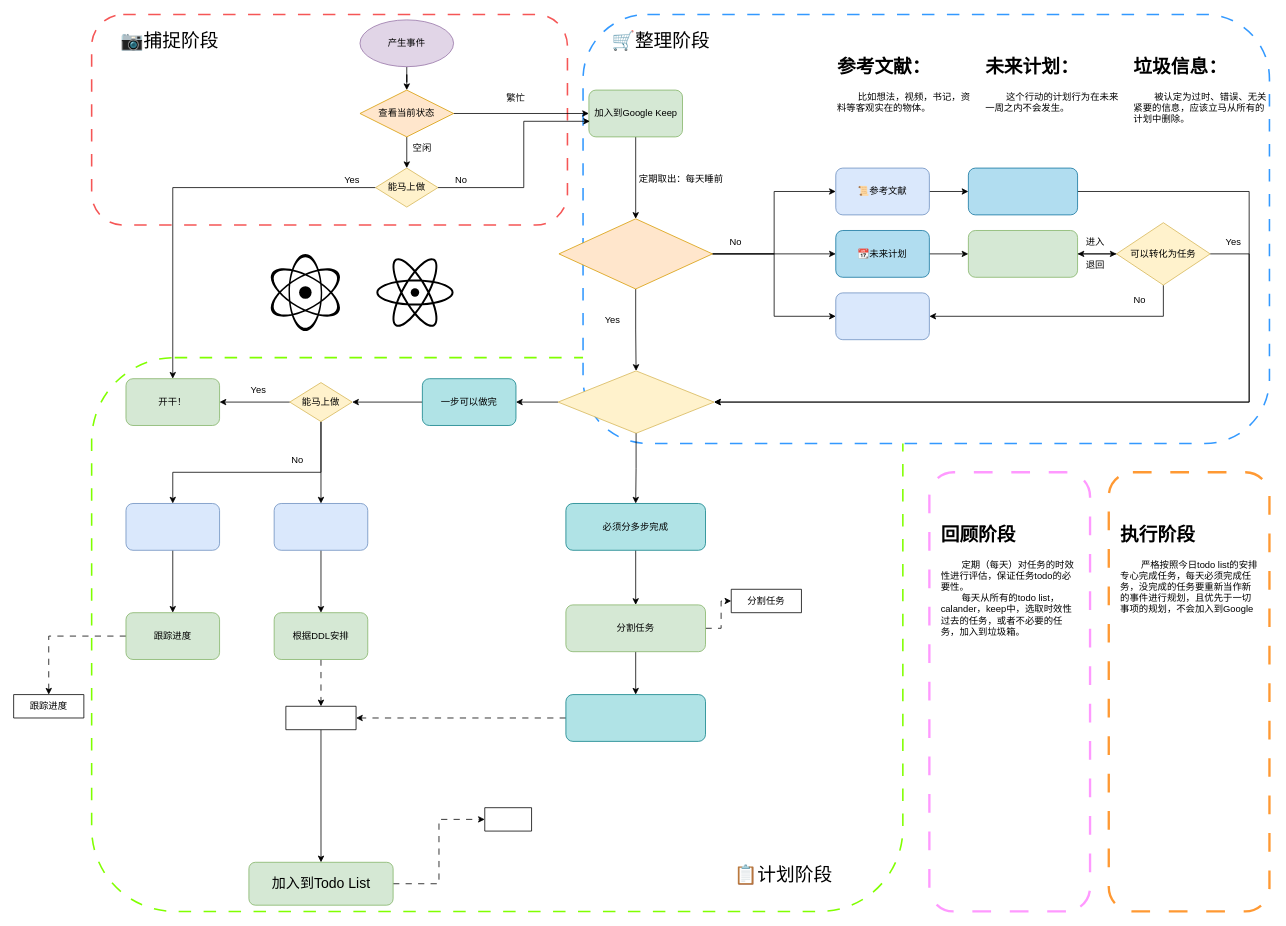
This 1286x926 diagram has some shape labels left out. Each missing label, with the box of its shape:
❌ 垃圾信息: (835, 292, 929, 340)
加入到"未来" Todo List，定期清理（每周）: (968, 230, 1078, 277)
加入到日历: (273, 503, 368, 550)
安排日期: (285, 706, 356, 730)
将计划添加到日历: (565, 694, 706, 741)
并明确处理任务具体步骤: (557, 370, 714, 433)
是一个近期可执行的任务吗？: (558, 218, 712, 289)
步骤: (484, 807, 532, 831)
生成任务：同步到对应的知识库: (968, 167, 1078, 215)
给别人做: (125, 503, 220, 550)
